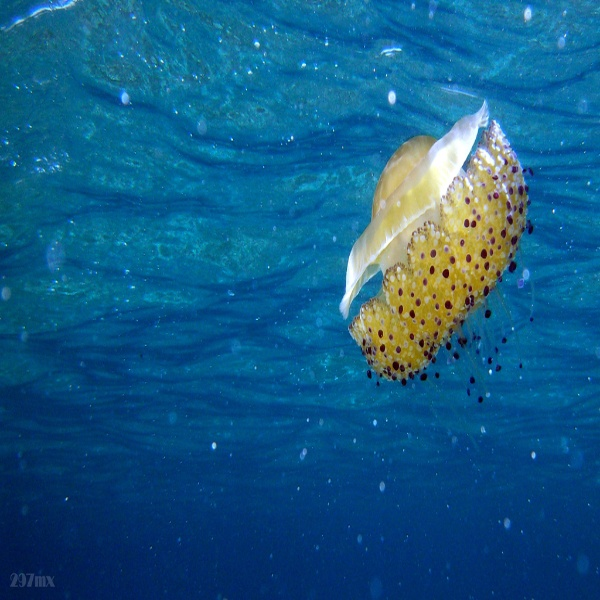Jellyfish: (339, 100, 533, 387)
